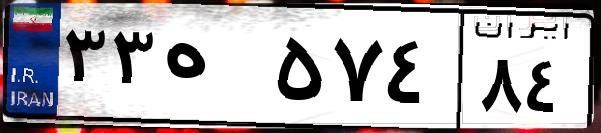3: (57, 26, 110, 100), (110, 28, 158, 98)
4: (385, 28, 445, 110), (525, 38, 570, 115)
5: (270, 28, 330, 110)
7: (330, 28, 385, 110)
8: (475, 38, 525, 113)
ه: (158, 20, 270, 120)
